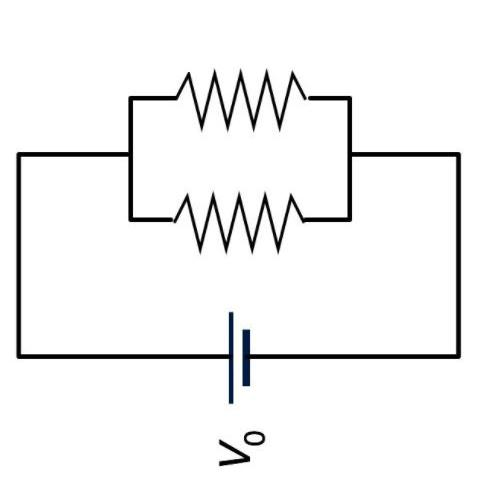resistor: (159, 53, 322, 155), (149, 173, 324, 266)
